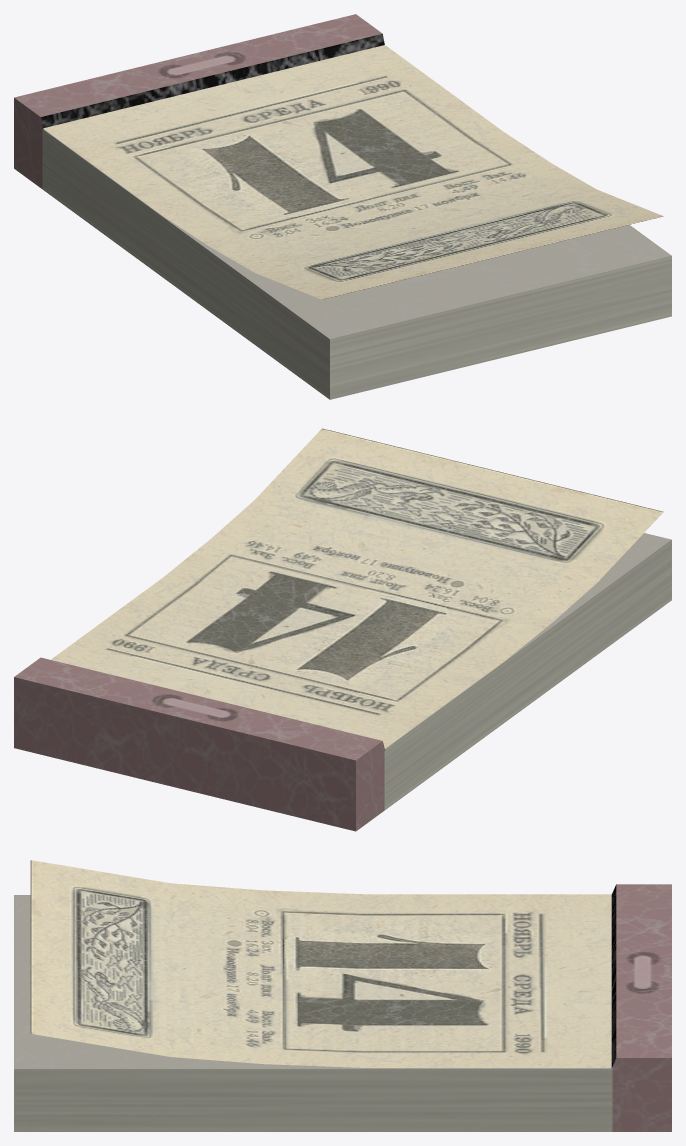
File: SM_Poster_01.fbx
3 renders of one model, top to bottom at view 1: azimuth 30°, elevation 25°; view 2: azimuth 150°, elevation 25°; view 3: azimuth 270°, elevation 25°, orthographic. The views are drawn at different scales.
Visible parts, largest first — view 1: SM_Poster_01; view 2: SM_Poster_01; view 3: SM_Poster_01.
Boxes of the visible parts, box(x1,y1,x2,y2) form: SM_Poster_01: box(14, 14, 671, 399); SM_Poster_01: box(14, 428, 671, 831); SM_Poster_01: box(14, 860, 671, 1131).
Bounding box in the file's own units: 17.12 × 4.51 × 27.4.
